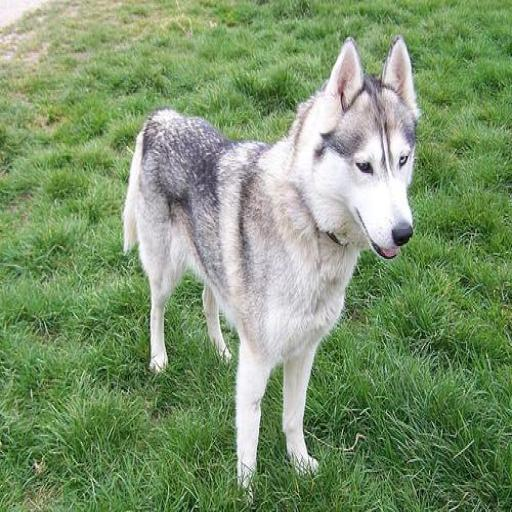dog_face: (308, 44, 422, 258)
